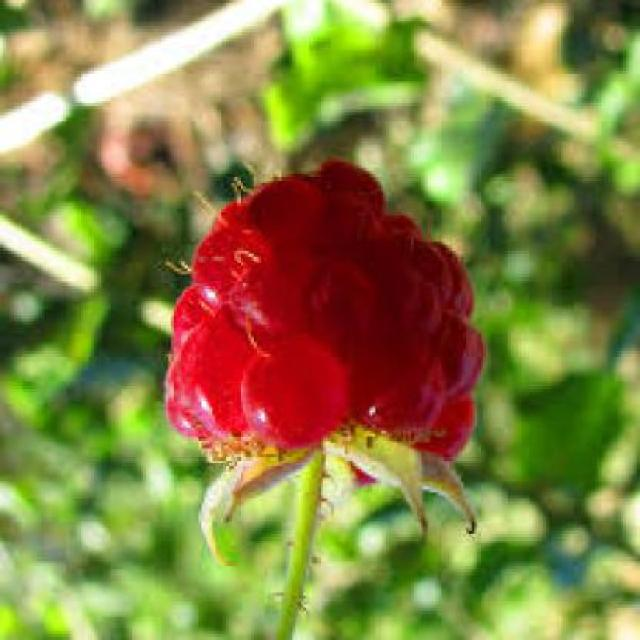BIODEGRADABLE: (167, 155, 486, 571), (277, 451, 322, 640)
